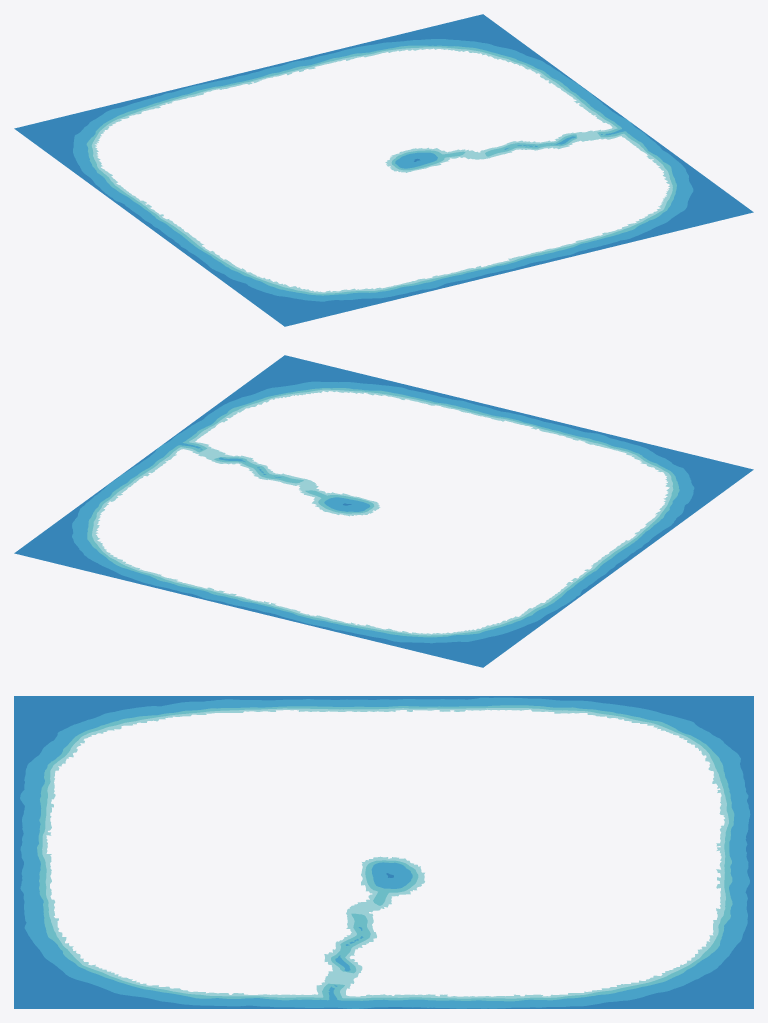
The model's file is Map-5-Water.fbx.
The picture shows the model from 3 angles, top to bottom: view 1: azimuth 30°, elevation 25°; view 2: azimuth 150°, elevation 25°; view 3: azimuth 270°, elevation 25°; orthographic projection. The views are drawn at different scales.
Parts seen in each view (by area): view 1: Map-5-Water; view 2: Map-5-Water; view 3: Map-5-Water.
Part boxes in pixels (x1,y1,x2,y2): Map-5-Water: (14, 14, 753, 326); Map-5-Water: (14, 355, 753, 667); Map-5-Water: (14, 696, 753, 1008).
Size of the model in its own units: 200 by 0 by 200.
